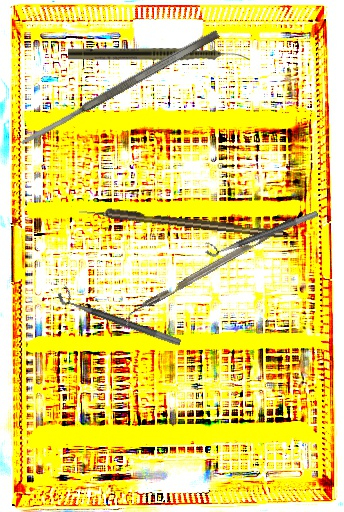Chopper: (119, 218, 300, 328)
Fixation Ring: (54, 283, 186, 348), (201, 201, 320, 260)
Handpiece: (68, 48, 250, 62)
Hook Surgical: (78, 204, 284, 240)
Spatula Surgical: (18, 28, 221, 148)
